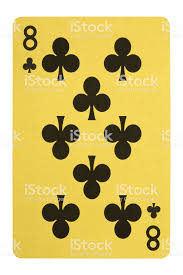eigth of clubs: (12, 19, 170, 258)
